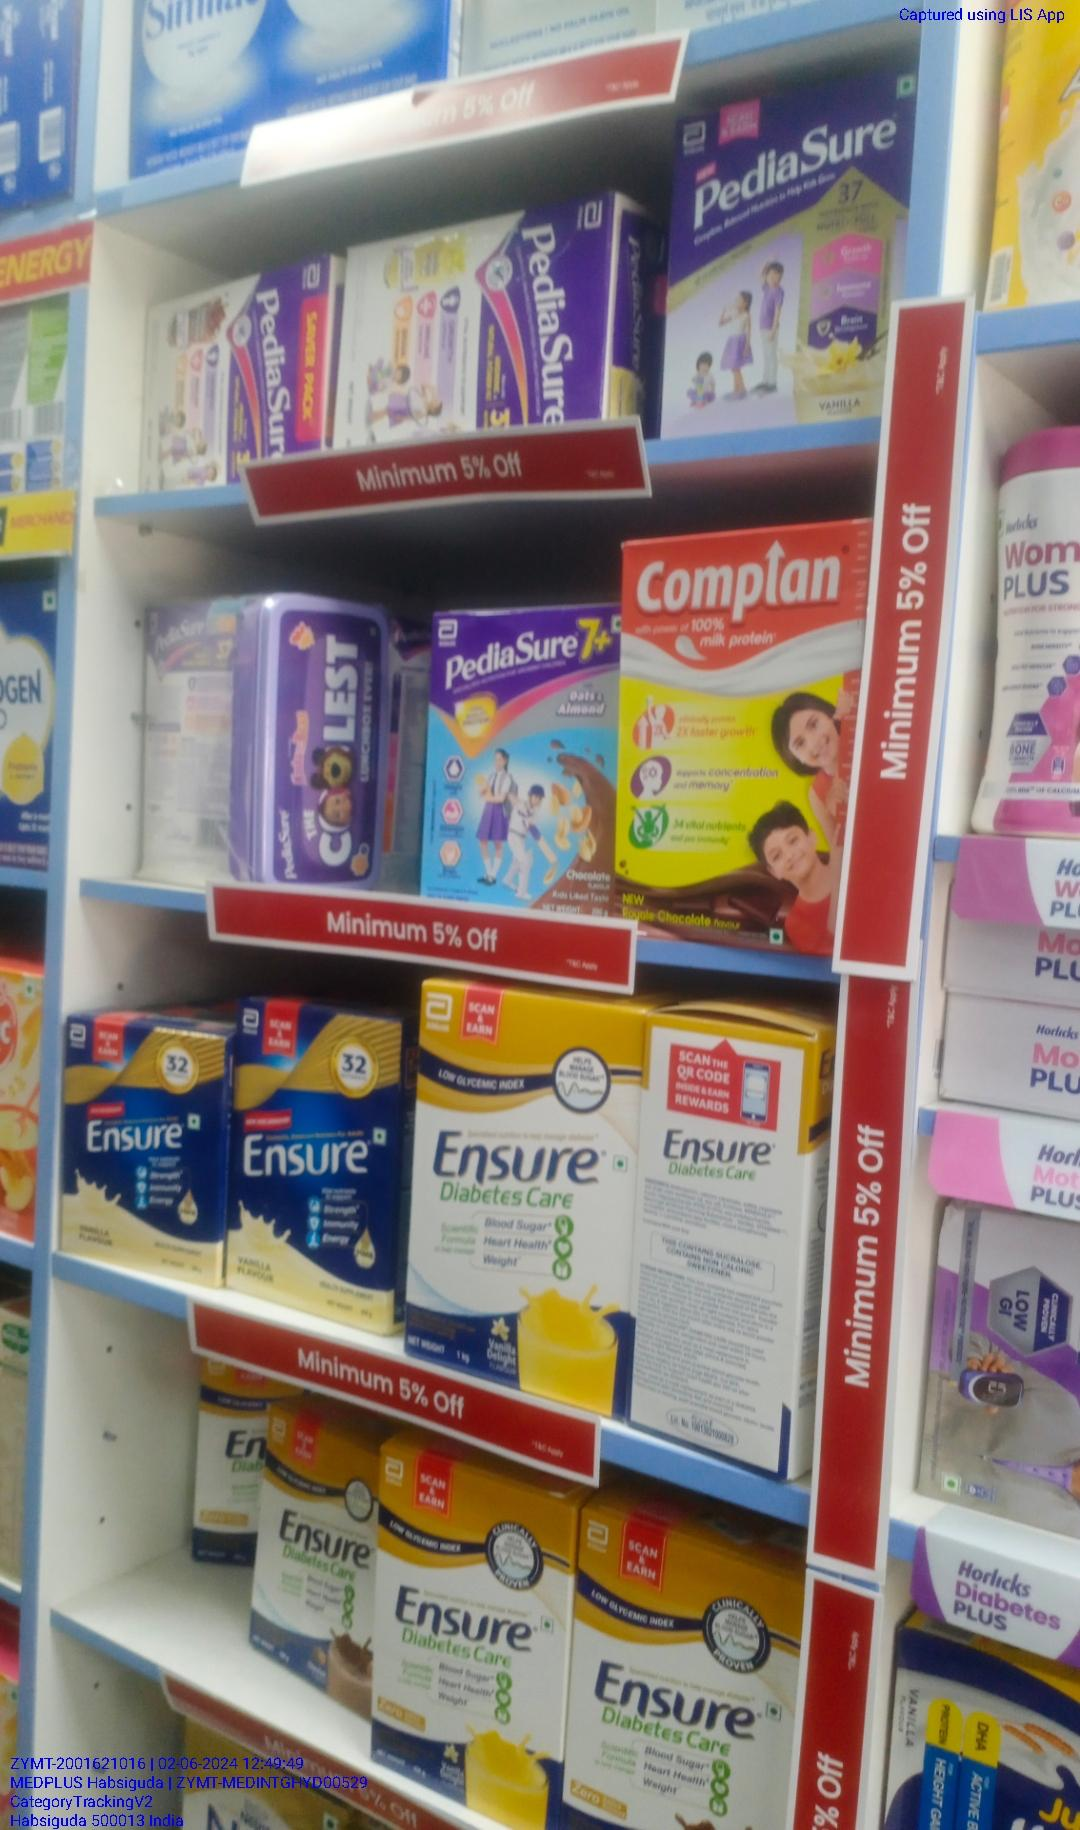PEDIASURE_7_PLUS_CHOCOLATE_400_G_PACK: (415, 598, 630, 901)
PEDIASURE_VANILLA_500_G_PACK: (667, 105, 894, 407)
